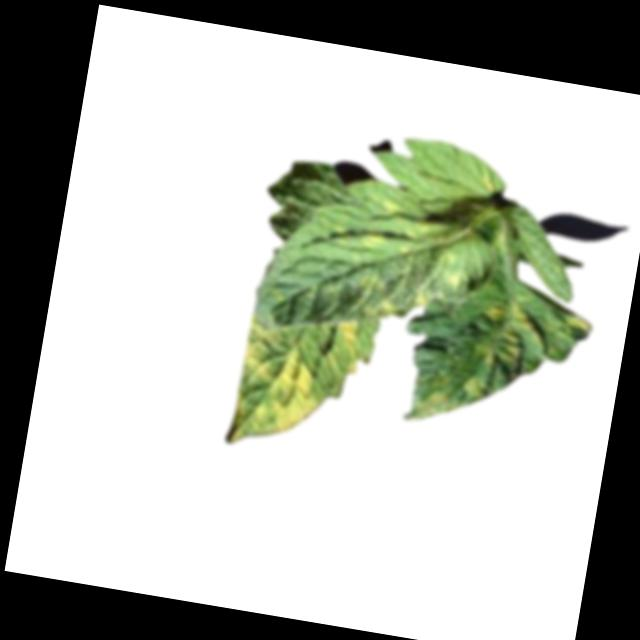Leaf_Mold: (223, 317, 334, 459), (474, 299, 550, 378), (402, 368, 465, 428), (350, 272, 406, 325), (333, 321, 368, 380), (374, 194, 409, 226), (557, 313, 595, 341), (464, 374, 491, 403), (362, 228, 389, 253)
